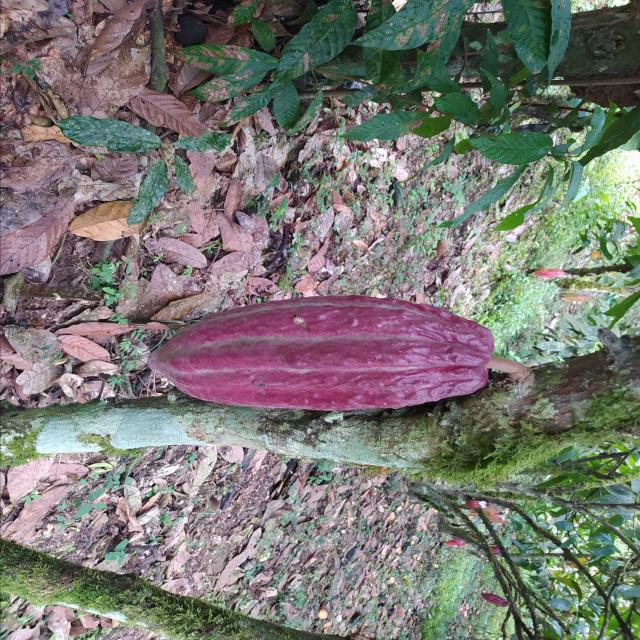Monilia: (466, 499, 491, 508)
Sana: (148, 296, 495, 415), (482, 593, 508, 607), (532, 268, 563, 278), (445, 540, 465, 546), (453, 536, 466, 544)
